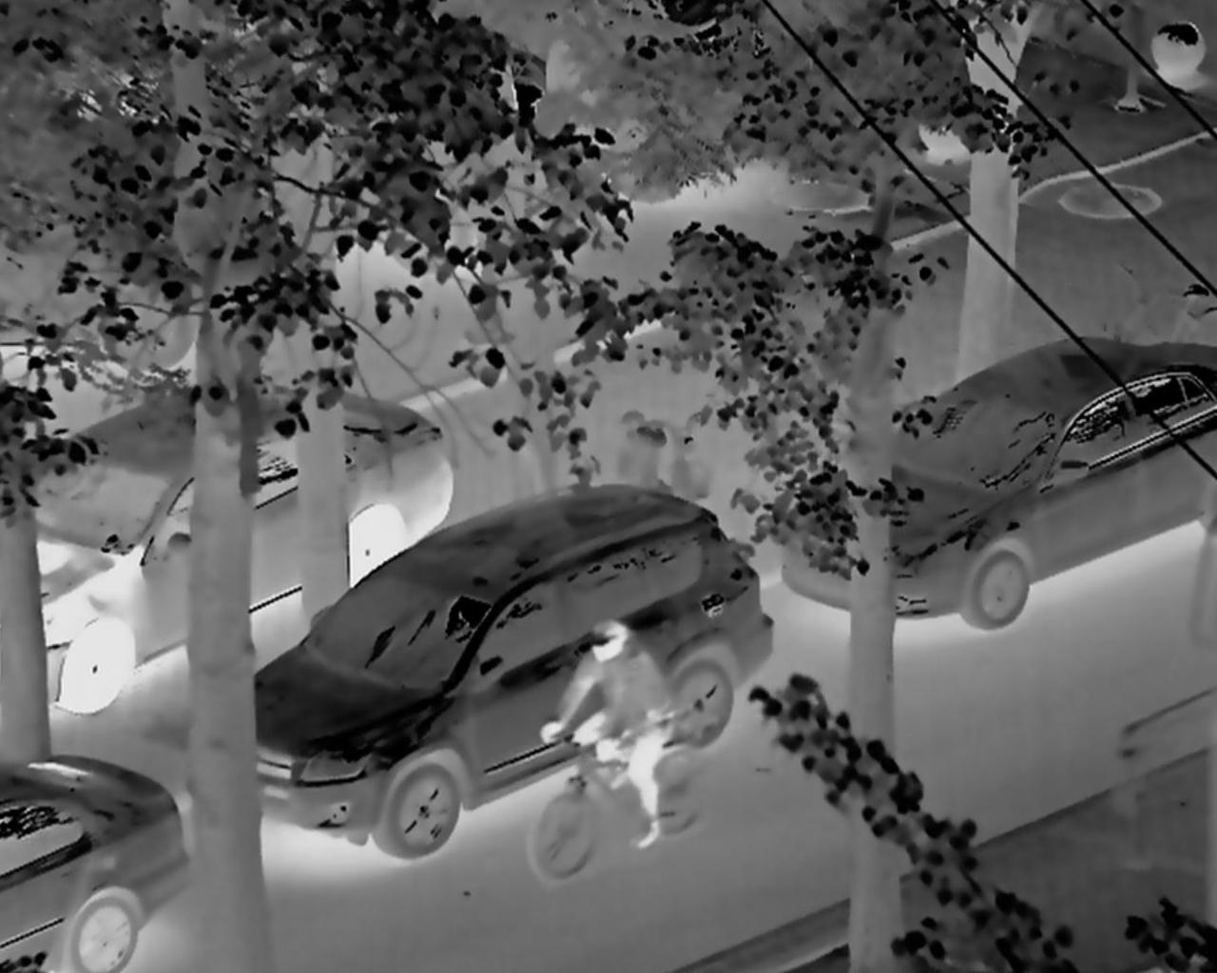person: (543, 610, 677, 871)
